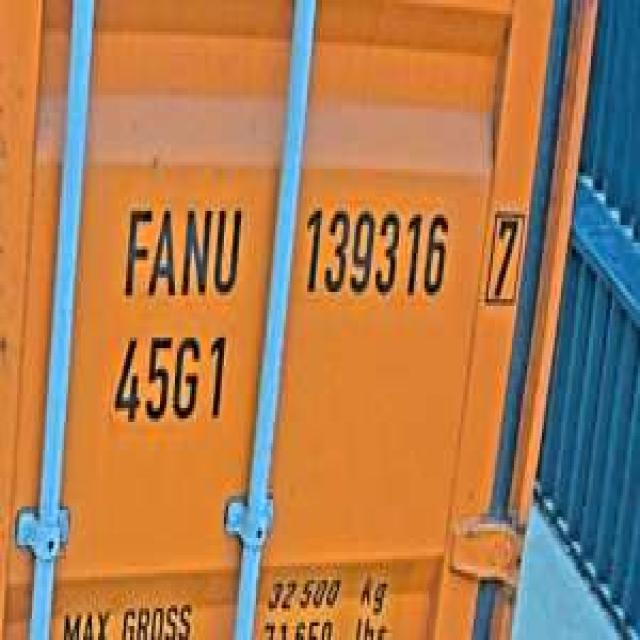dv: (480, 197, 529, 313)
owner: (116, 193, 246, 306)
serial: (299, 197, 452, 309)
size: (105, 323, 232, 432)
